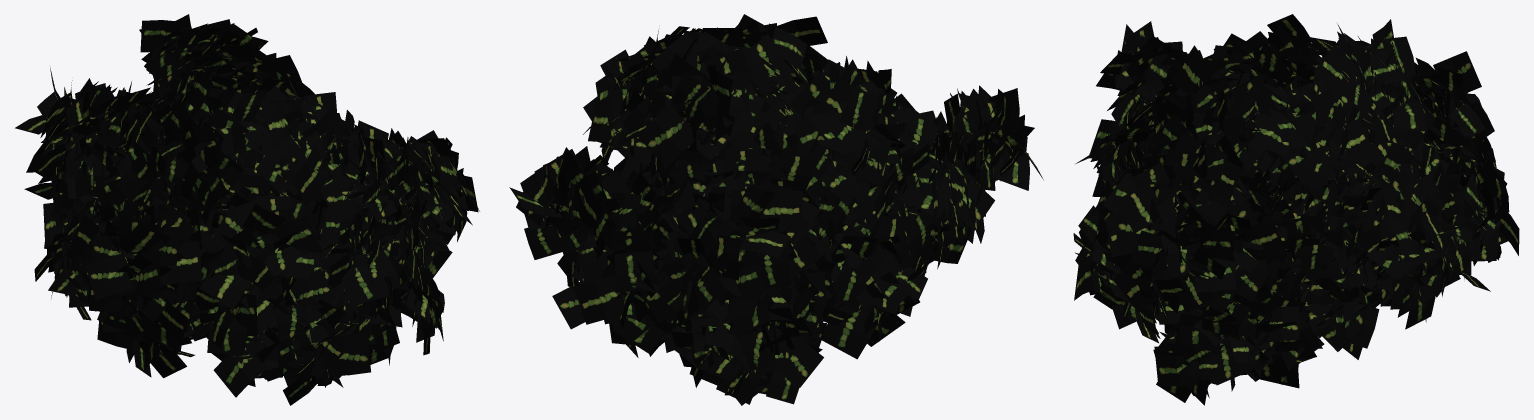
The model's file is SM_Tree_Oak_C_Leaves.fbx.
3 views of the same model, side by side, from view 1: azimuth 30°, elevation 25°; view 2: azimuth 150°, elevation 25°; view 3: azimuth 270°, elevation 25° (orthographic). The views are drawn at different scales.
Parts seen in each view (by area): view 1: Tree_Oak_C_Leaves; view 2: Tree_Oak_C_Leaves; view 3: Tree_Oak_C_Leaves.
Part boxes in pixels (bbox=[...]): Tree_Oak_C_Leaves: bbox=[15, 14, 479, 405]; Tree_Oak_C_Leaves: bbox=[509, 14, 1043, 405]; Tree_Oak_C_Leaves: bbox=[1073, 14, 1519, 405].
Size of the model in its own units: 12.93 by 13.16 by 10.37.
1 material, 1 textured.
